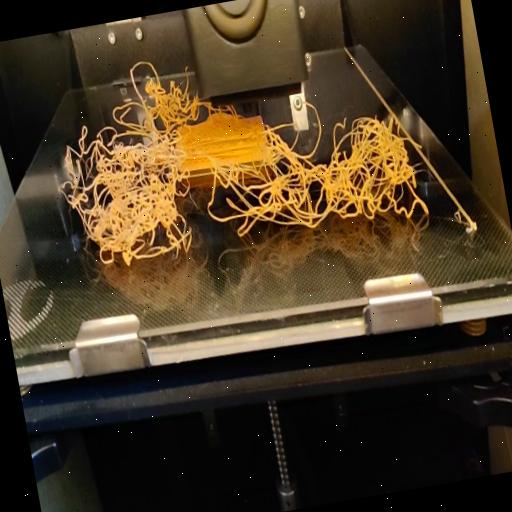spaghetti: (40, 74, 434, 284), (102, 46, 205, 128)
